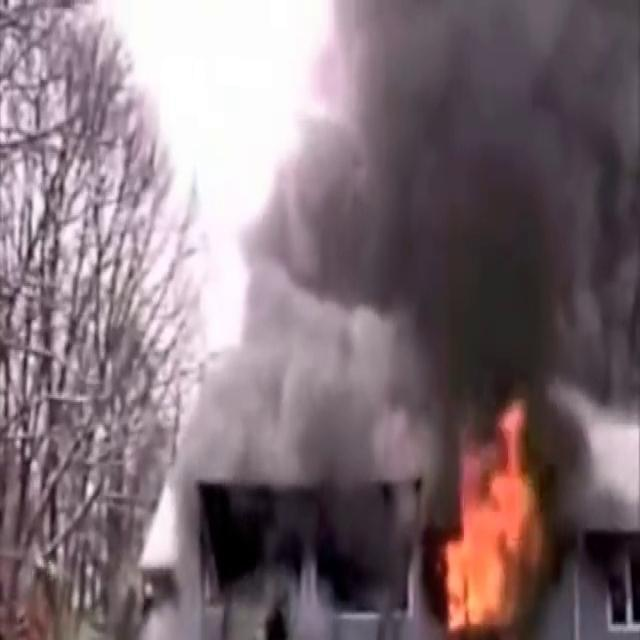Fire: (436, 382, 550, 632)
Smoke: (354, 0, 639, 370), (177, 156, 466, 492)
